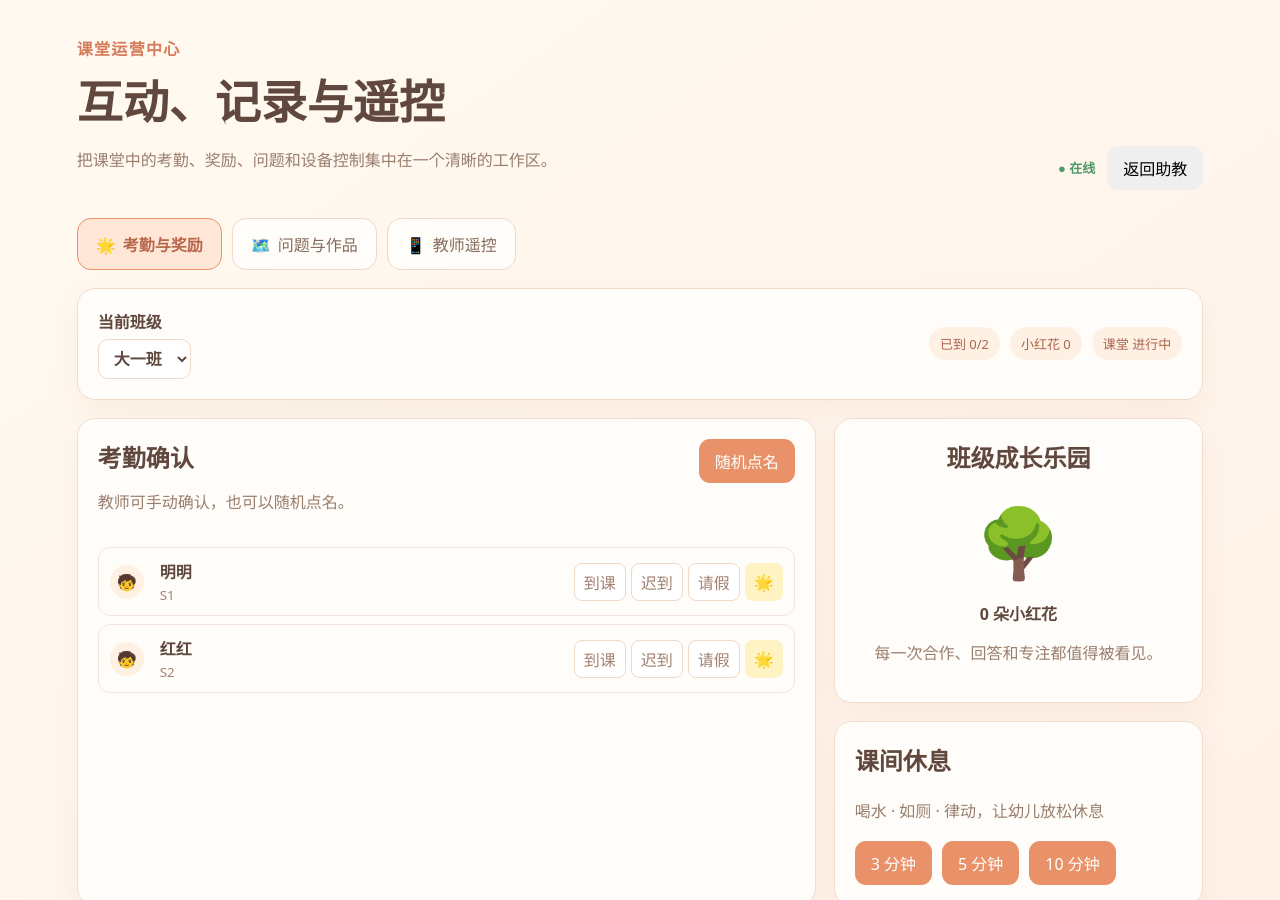
Test: ClassroomOperationsView 考勤/奖励状态收口 › 点击奖励 → POST rewards → 成功后 UI +1（不再写 reward checkpoint）
Click the button "🌟" in the row of "明明".
click(764, 582)  # box 745,563 -> 783,601
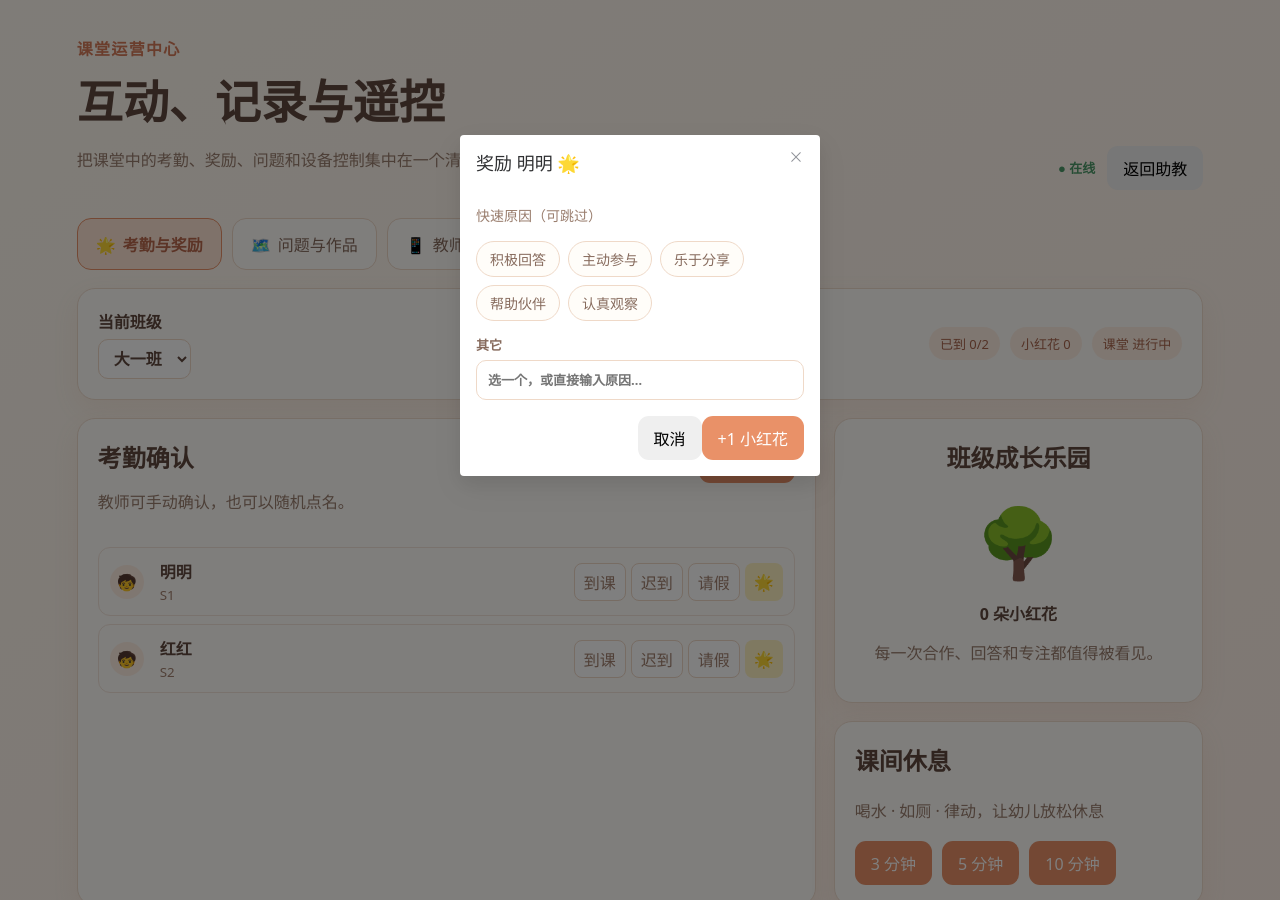
Now the element showing "奖励 明明 🌟 快速原因（可跳过） 积极回答 主动参与 乐于分享 帮助伙伴 认真观察 其它 取消 +1 小红花" is shown, box 460,135 -> 820,476
Click the button "积极回答".
click(518, 259)  # box 476,241 -> 560,277
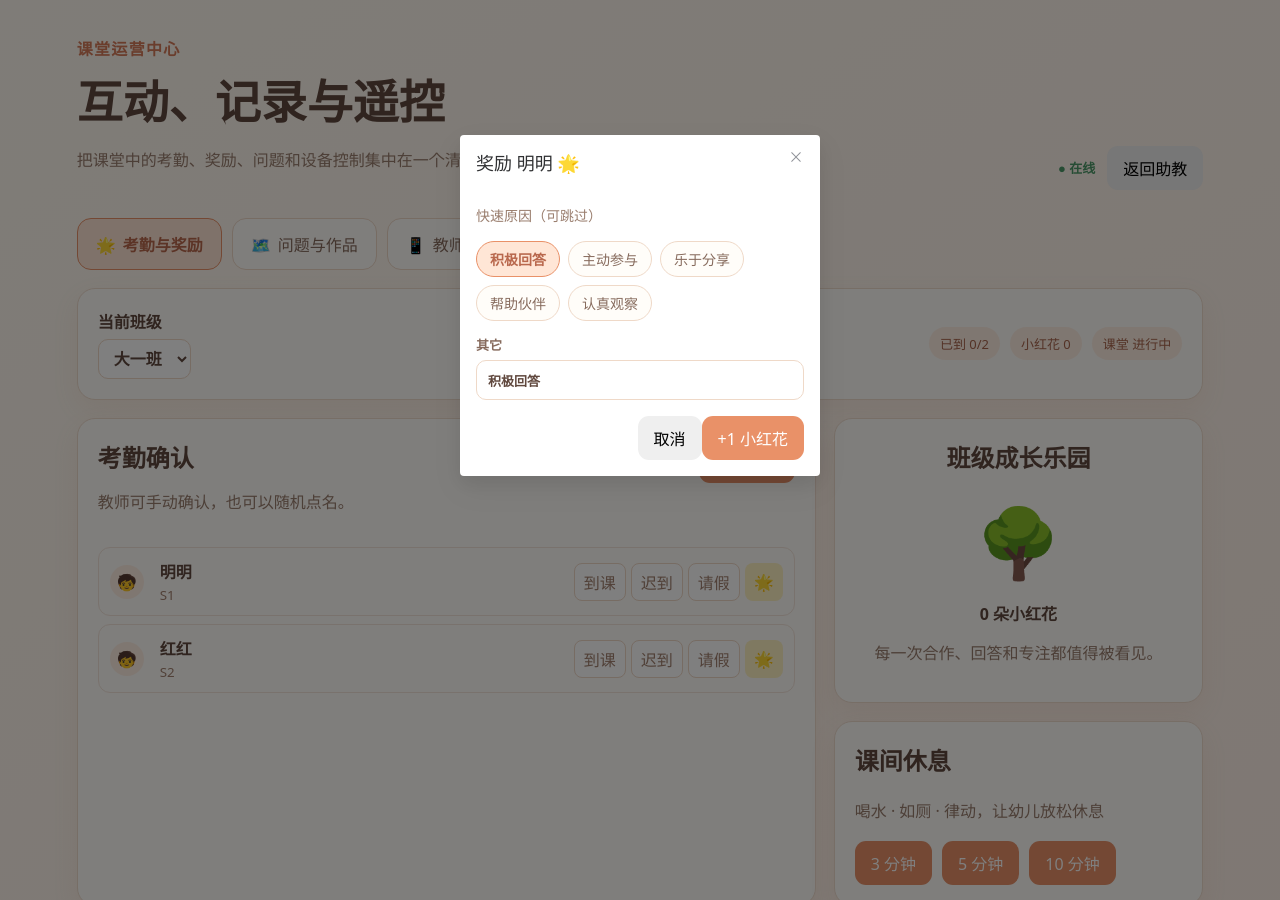
Now the button "+1 小红花" is shown
Click the button "+1 小红花".
click(753, 438)  # box 702,416 -> 804,460
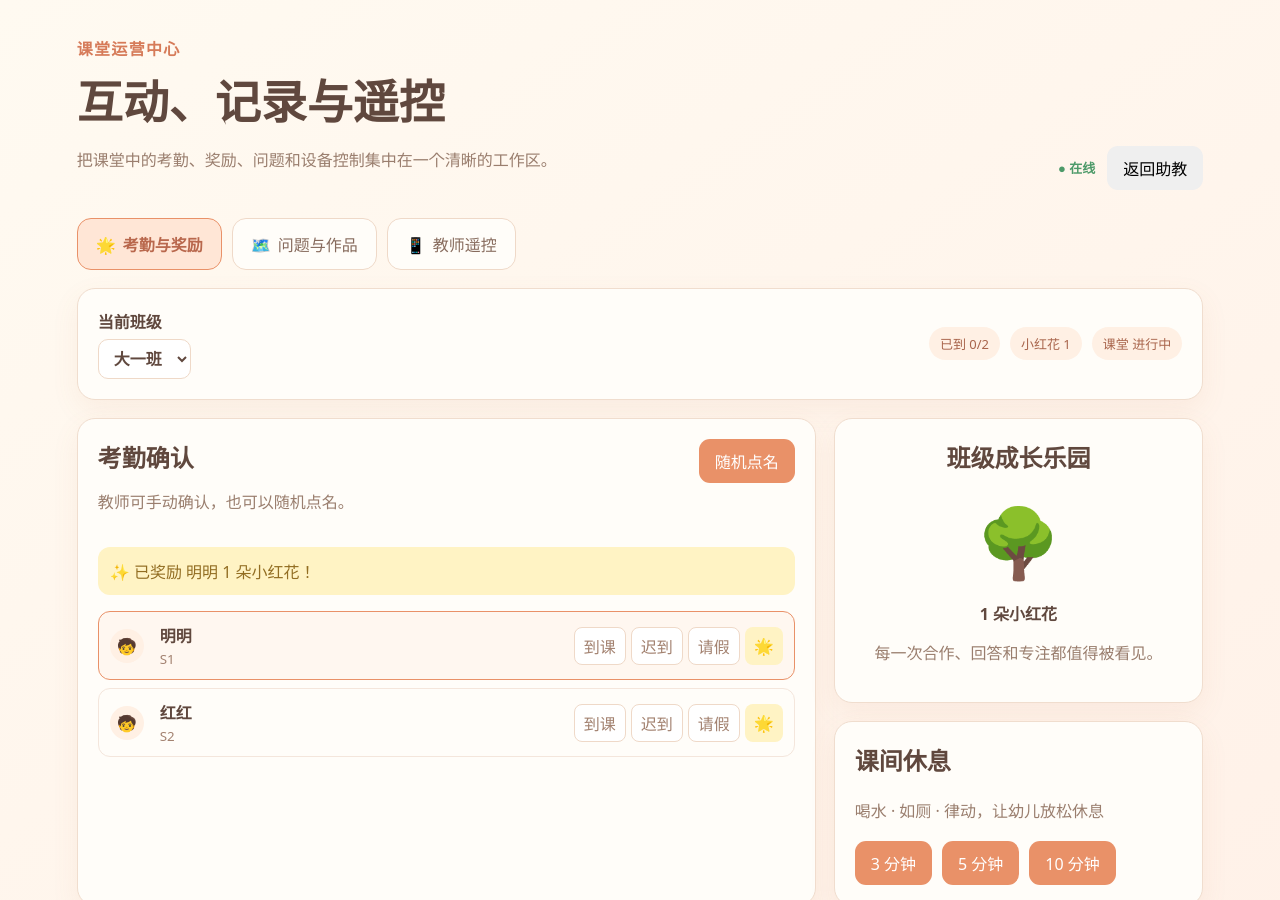
Now the text "小红花 1" is shown, box 1010,327 -> 1082,360
